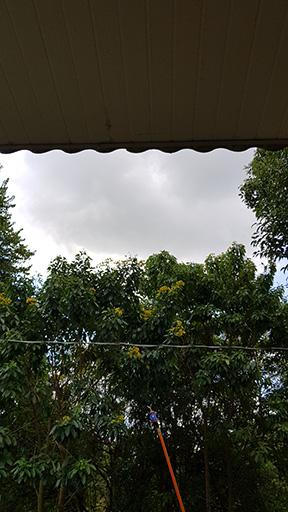Detector_Tensao_Contato: (143, 403, 158, 425)
Vara_Manobra: (151, 425, 184, 512)
